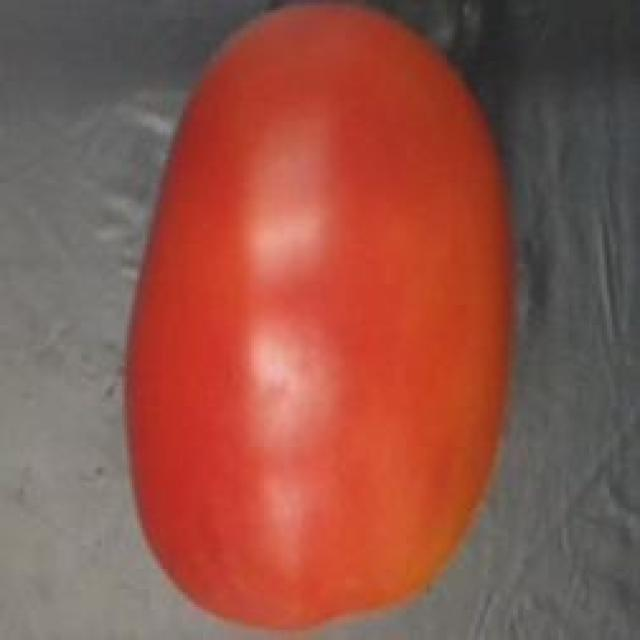ripe tomato: (84, 2, 546, 640)
